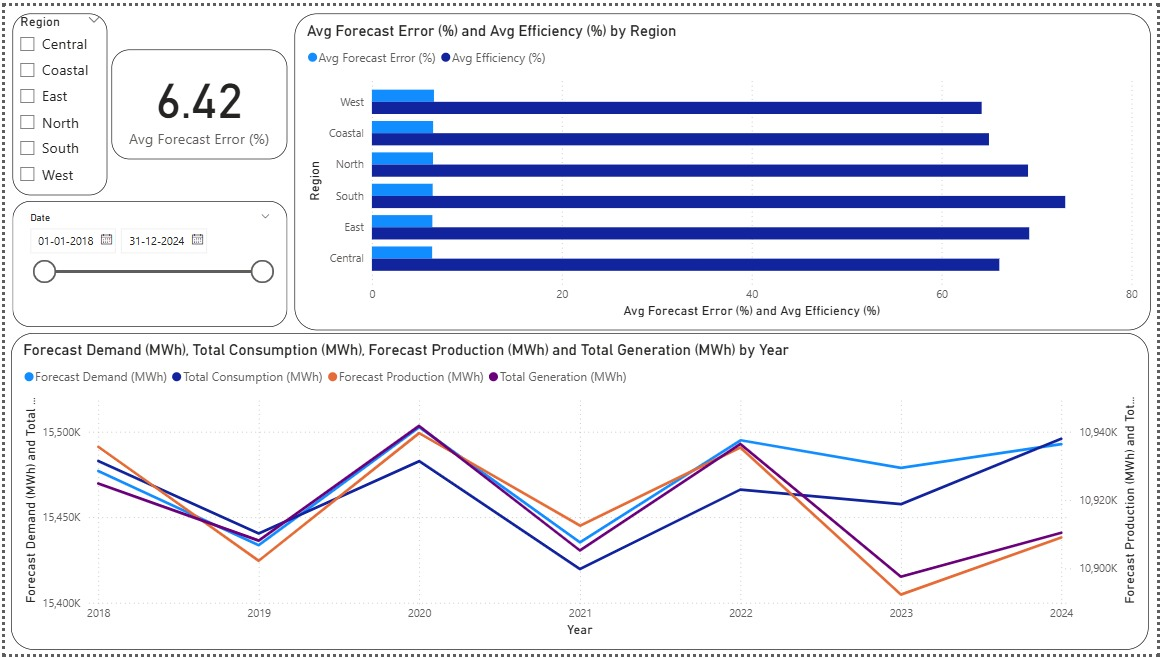

The page's visual inventory and layout, read from the dashboard file:
{"tool":"powerbi","page":{"name":"Forecast & Risk","canvas":[1280,720],"ordinal":2},"visuals":[{"type":"slicer","fields":{"Values":["Region.Region"]},"box":[8.3,8.3,105,201.7],"z":0},{"type":"slicer","fields":{"Values":["Date.Date"]},"box":[8.3,216.7,305,140],"z":1},{"type":"lineChart","fields":{"Category":["Date.Date.Variation.Date Hierarchy.Year","Date.Date.Variation.Date Hierarchy.Quarter","Date.Date.Variation.Date Hierarchy.Month","Date.Date.Variation.Date Hierarchy.Day"],"Y":["Consumption.Forecast Demand (MWh)","Consumption.Total Consumption (MWh)"],"Y2":["Consumption.Forecast Production (MWh)","Consumption.Total Generation (MWh)"]},"box":[6.7,363.3,1264,351.7],"z":2},{"type":"card","fields":{"Values":["Consumption.Avg Forecast Error (%)"]},"box":[119,48.3,195,121.7],"z":3},{"type":"clusteredBarChart","fields":{"Category":["Region.Region"],"Y":["Consumption.Avg Forecast Error (%)","Consumption.Avg Efficiency (%)"]},"box":[321.7,8.3,951,351.7],"z":4}]}

Visuals, with their boxes in screenshot pixels (x1, y1, x2, y2), scaled from the page's 1280x720 canvas onto the 1160x658 screenshot:
slicer - Region.Region: detection(8, 8, 103, 192)
slicer - Date.Date: detection(8, 198, 284, 326)
lineChart - Date.Date.Variation.Date Hierarchy.Year x Date.Date.Variation.Date Hierarchy.Quarter: detection(6, 332, 1152, 653)
card - Consumption.Avg Forecast Error (%): detection(108, 44, 285, 155)
clusteredBarChart - Region.Region x Consumption.Avg Forecast Error (%): detection(292, 8, 1153, 329)
